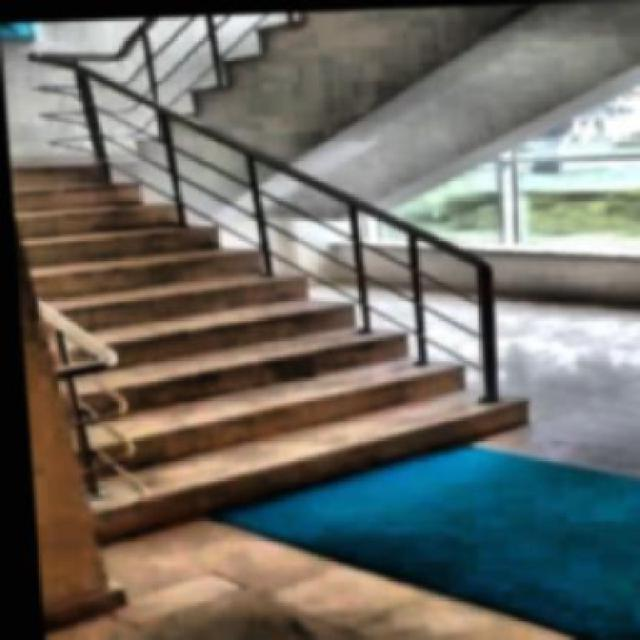stair: (6, 94, 583, 571)
